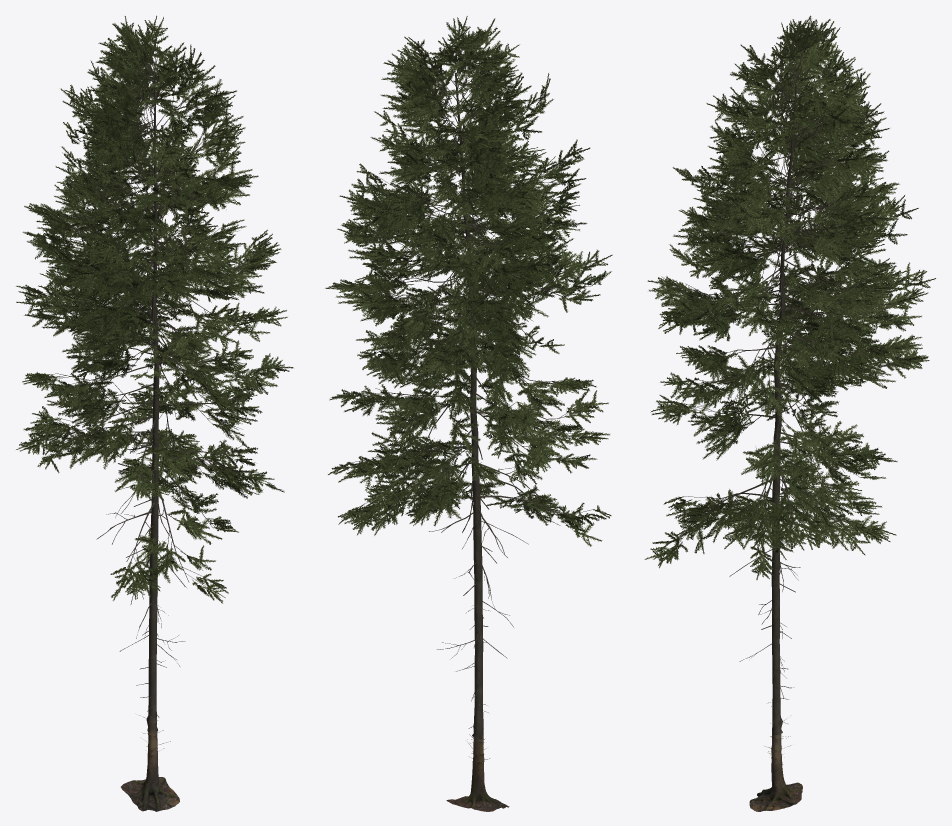
File: fir_fir_tall_a.glb
3 views of the same model, side by side, from view 1: azimuth 30°, elevation 25°; view 2: azimuth 150°, elevation 25°; view 3: azimuth 270°, elevation 25° (orthographic). The views are drawn at different scales.
Visible parts, largest first — view 1: fir_tall_a_LOD0; view 2: fir_tall_a_LOD0; view 3: fir_tall_a_LOD0.
Boxes of the visible parts, left/top/right/bottom form: fir_tall_a_LOD0: left=16, top=15, right=293, bottom=811; fir_tall_a_LOD0: left=325, top=16, right=612, bottom=811; fir_tall_a_LOD0: left=644, top=15, right=935, bottom=811.
Size of what is drawn, in the model's own units: 6.58 by 18.96 by 6.47.
2 materials, 2 textured.
